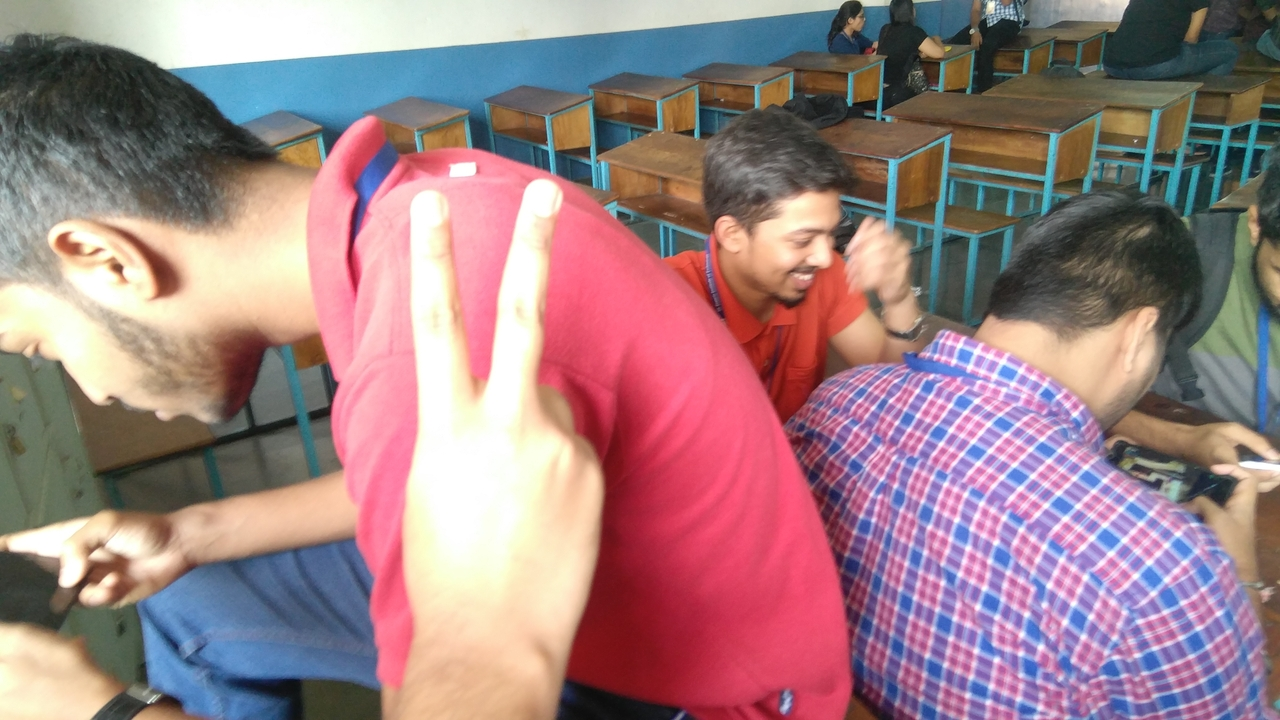fingertip: (394, 173, 462, 237), (510, 172, 568, 236)
